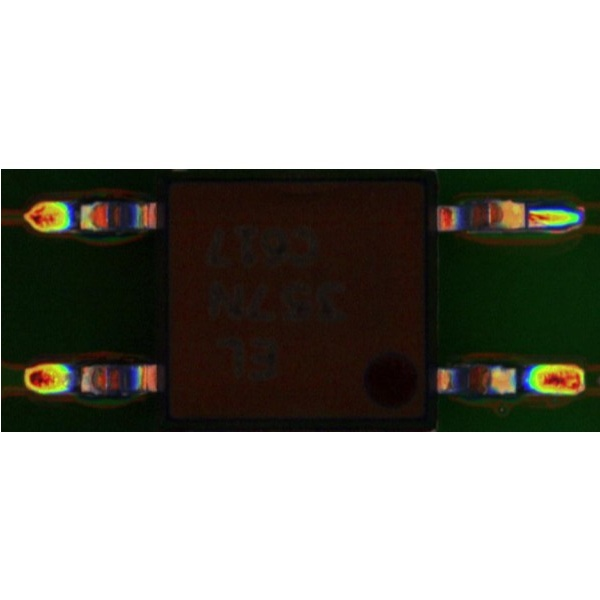Bad_podu: (514, 209, 541, 225)
